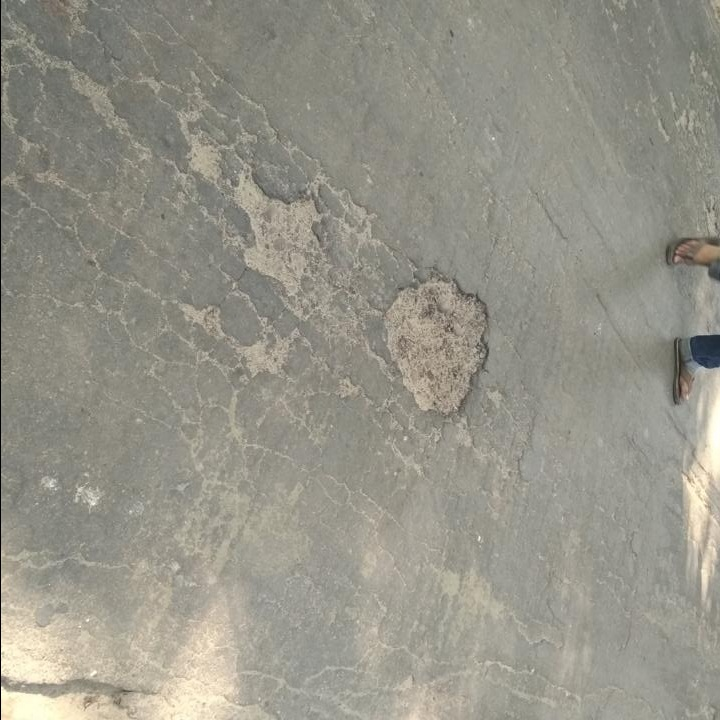pothole: (381, 269, 494, 417), (235, 161, 327, 297)
